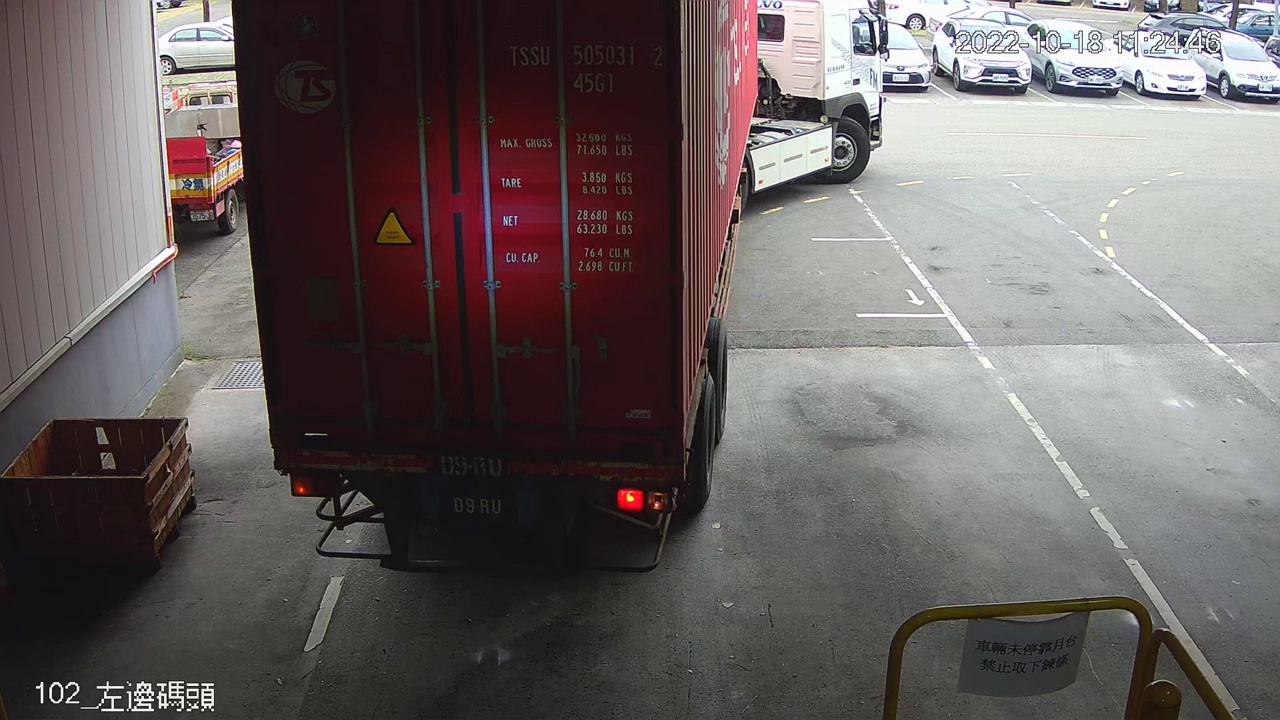container: (505, 32, 669, 98)
